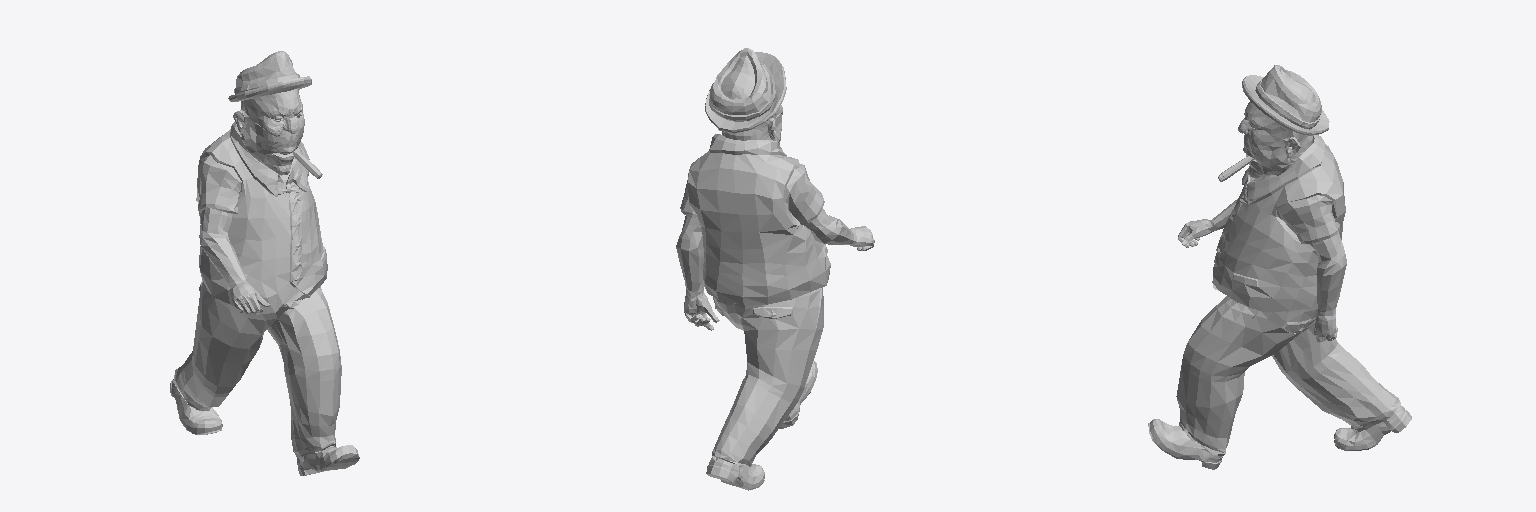
Rendered from walk0009.obj.
3 views of the same model, side by side, from view 1: azimuth 30°, elevation 25°; view 2: azimuth 150°, elevation 25°; view 3: azimuth 270°, elevation 25° (orthographic).
Parts seen in each view (by area): view 1: mixamorig:Jacket_Geo, mixamorig:Pants_Geo, mixamorig:Head_Geo, mixamorig:Arms_Geo, mixamorig:Shoes_Geo, mixamorig:Hat_Geo; view 2: mixamorig:Jacket_Geo, mixamorig:Pants_Geo, mixamorig:Hat_Geo, mixamorig:Arms_Geo, mixamorig:Shoes_Geo, mixamorig:Head_Geo; view 3: mixamorig:Pants_Geo, mixamorig:Jacket_Geo, mixamorig:Hat_Geo, mixamorig:Arms_Geo, mixamorig:Head_Geo, mixamorig:Shoes_Geo.
Part boxes in pixels (x1,y1,x2,y2): mixamorig:Jacket_Geo: (196,122,327,314); mixamorig:Pants_Geo: (173,280,341,457); mixamorig:Head_Geo: (233,88,304,184); mixamorig:Arms_Geo: (199,208,269,313); mixamorig:Shoes_Geo: (170,379,359,475); mixamorig:Hat_Geo: (228,51,311,101); mixamorig:Jacket_Geo: (680,134,830,304); mixamorig:Pants_Geo: (712,287,823,466); mixamorig:Hat_Geo: (705,48,786,133); mixamorig:Arms_Geo: (676,209,874,330); mixamorig:Shoes_Geo: (706,361,817,490); mixamorig:Head_Geo: (718,105,782,144); mixamorig:Pants_Geo: (1176,296,1400,455); mixamorig:Jacket_Geo: (1212,135,1345,311); mixamorig:Hat_Geo: (1242,65,1329,135); mixamorig:Arms_Geo: (1178,199,1346,341); mixamorig:Head_Geo: (1238,102,1313,180); mixamorig:Shoes_Geo: (1148,405,1411,469).
Bounding box in the file's own units: 0.6394 × 1.92 × 1.15.